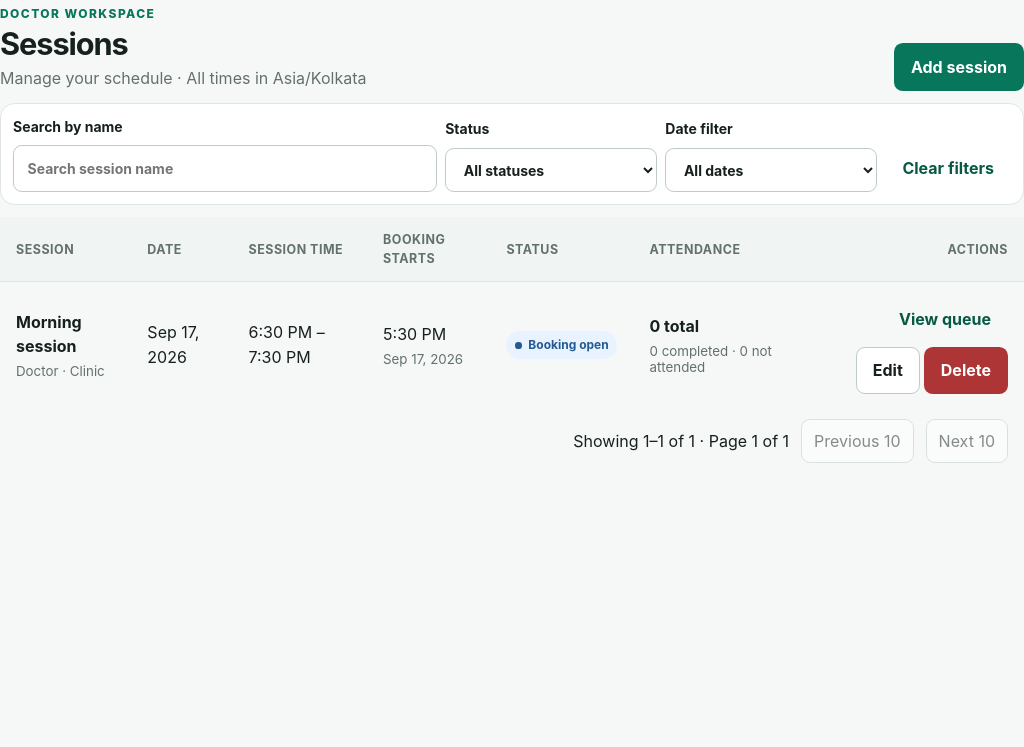
Test: lists, edits, and deletes an unbooked future session
The width and height of the screenshot is (1024, 747).
Check: the text "Morning session" is shown, box 16,312 -> 82,356
Click the button "Edit" at (888, 371), box 856,347 -> 920,394
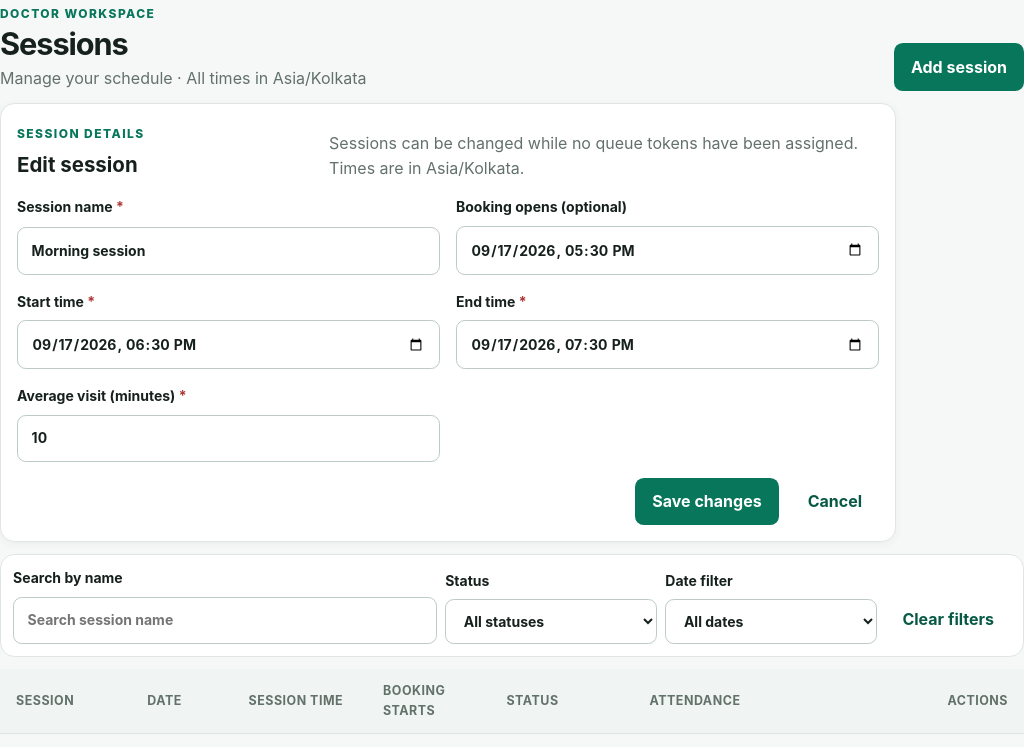
Replace the text in the field labelled "Session name *" with "Updated session" at (228, 251), box 17,227 -> 440,275
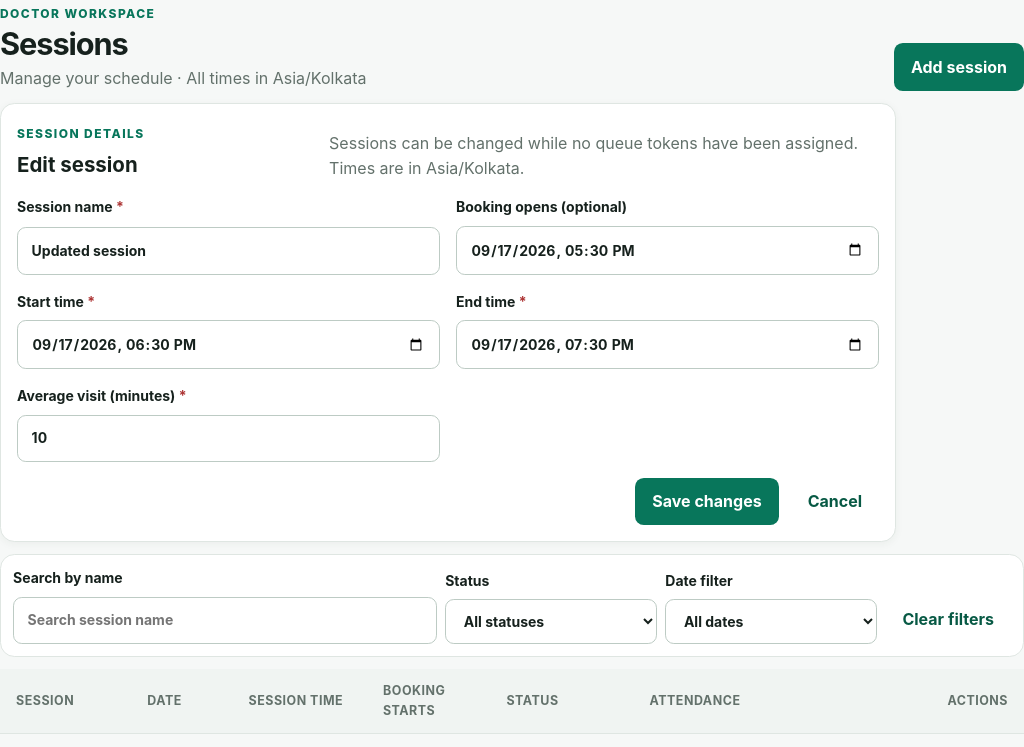
Clear the field labelled "Booking opens (optional)" at (668, 250), box 456,226 -> 879,275
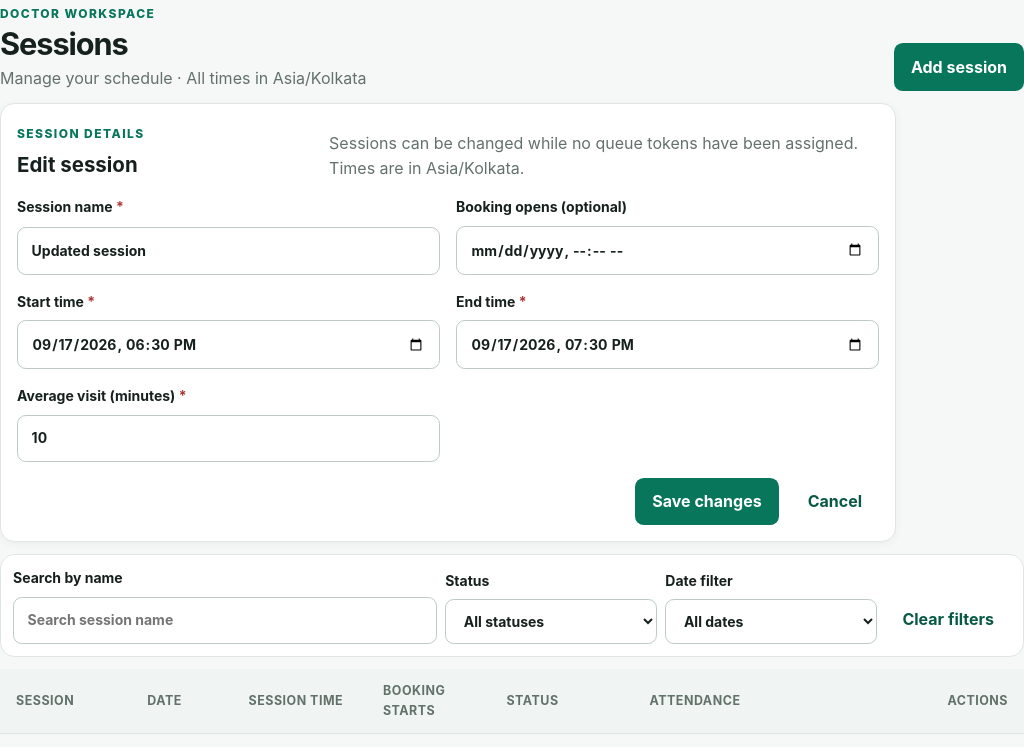
Click the button "Save changes" at (707, 501), box 635,478 -> 779,525
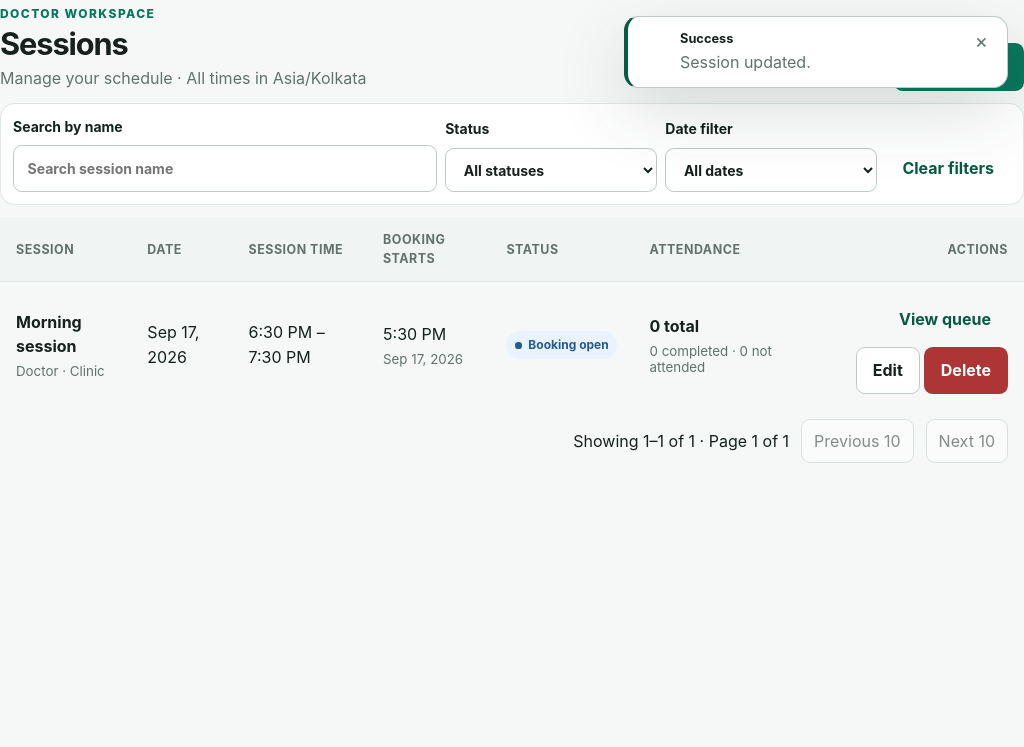
Click the button "Delete" at (966, 371), box 924,347 -> 1008,394
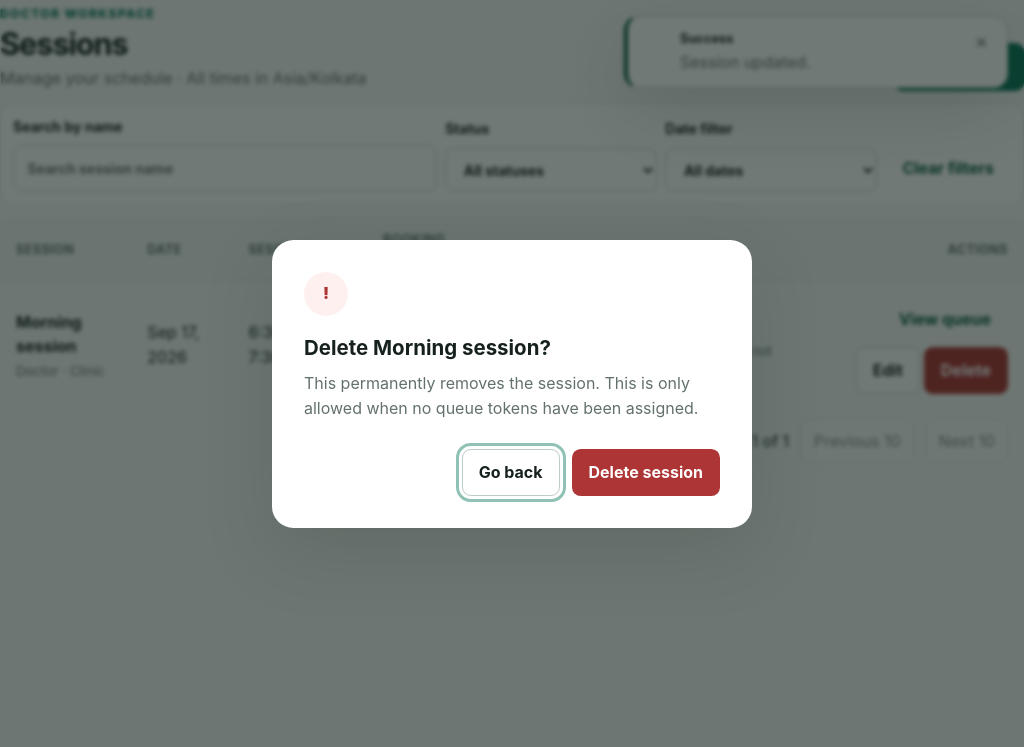
Click the button "Delete session" at (646, 473), box 572,449 -> 720,496
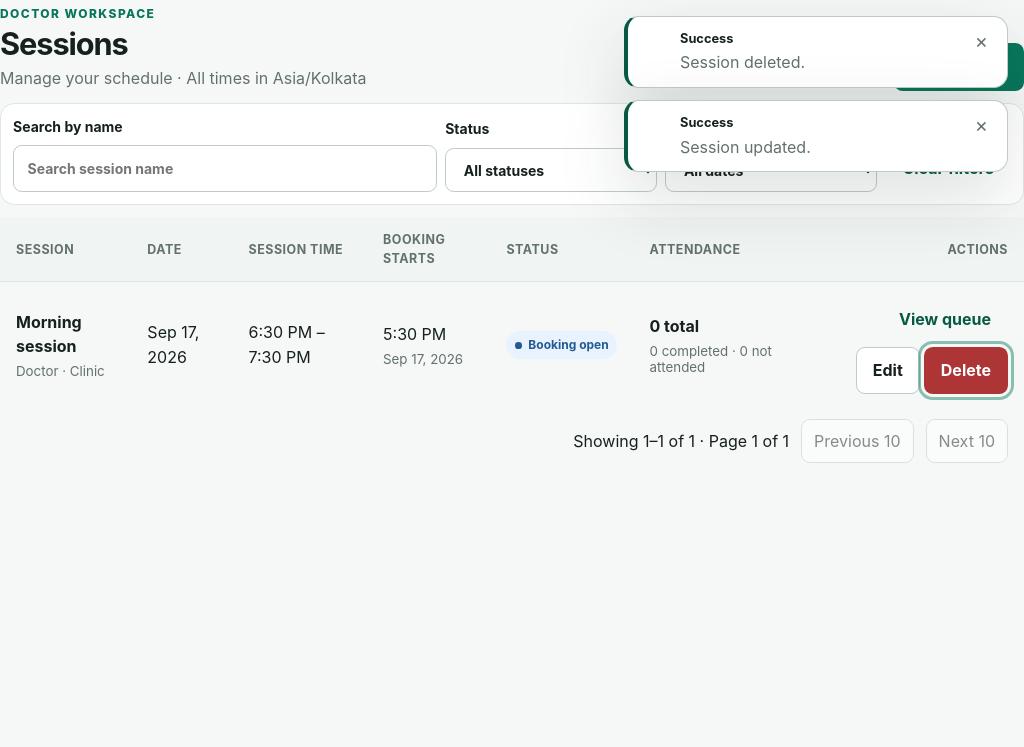
Check: the text "Session updated." is shown, box 680,137 -> 811,157
Check: the text "Session deleted." is shown, box 680,52 -> 805,72
